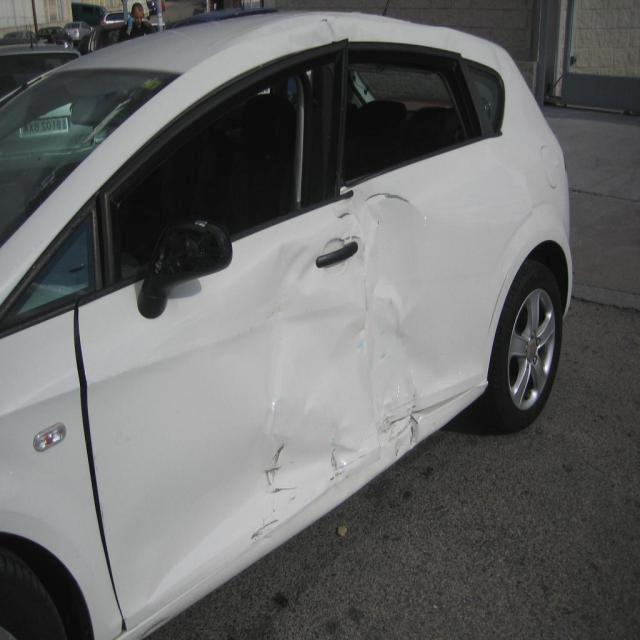minor: (196, 180, 466, 558)
